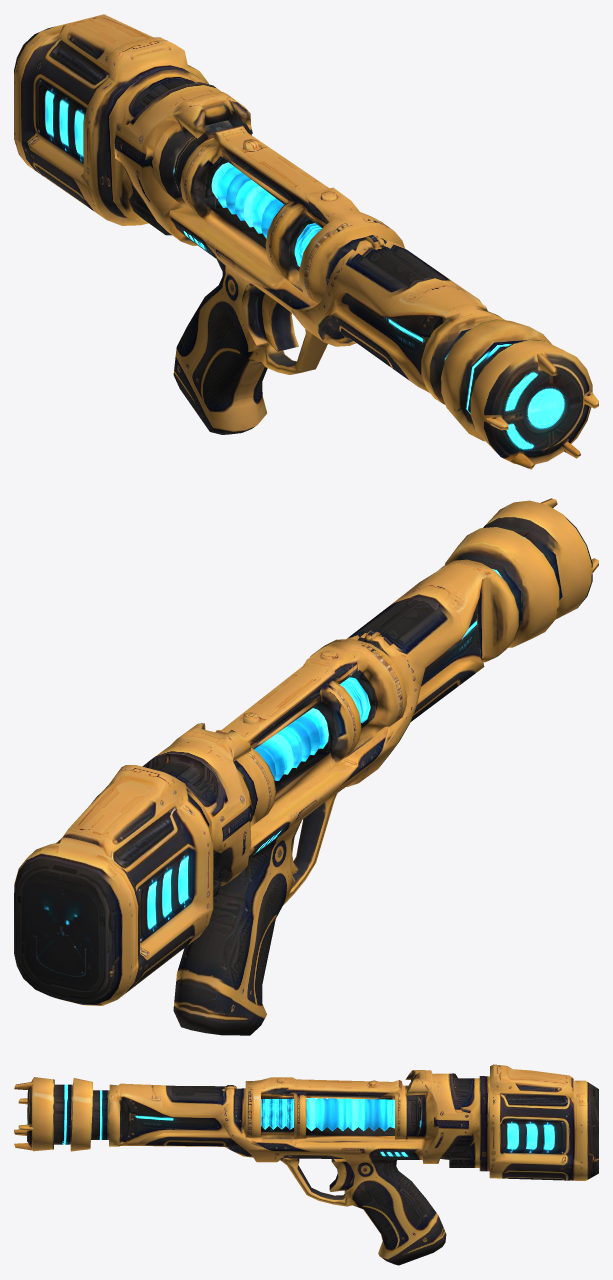
Rendered from gun2.glb.
3 renders of one model, top to bottom at view 1: azimuth 30°, elevation 25°; view 2: azimuth 150°, elevation 25°; view 3: azimuth 270°, elevation 25°, orthographic. The views are drawn at different scales.
Visible parts, largest first — view 1: Gun2_export; view 2: Gun2_export; view 3: Gun2_export.
Boxes of the visible parts, x1,y1,x2,y2 form: Gun2_export: [14, 14, 598, 469]; Gun2_export: [14, 498, 598, 1035]; Gun2_export: [14, 1064, 598, 1265].
Size of the model in its own units: 0.0974 by 0.2497 by 0.6897.
Materials: 1 (1 with a texture image).
